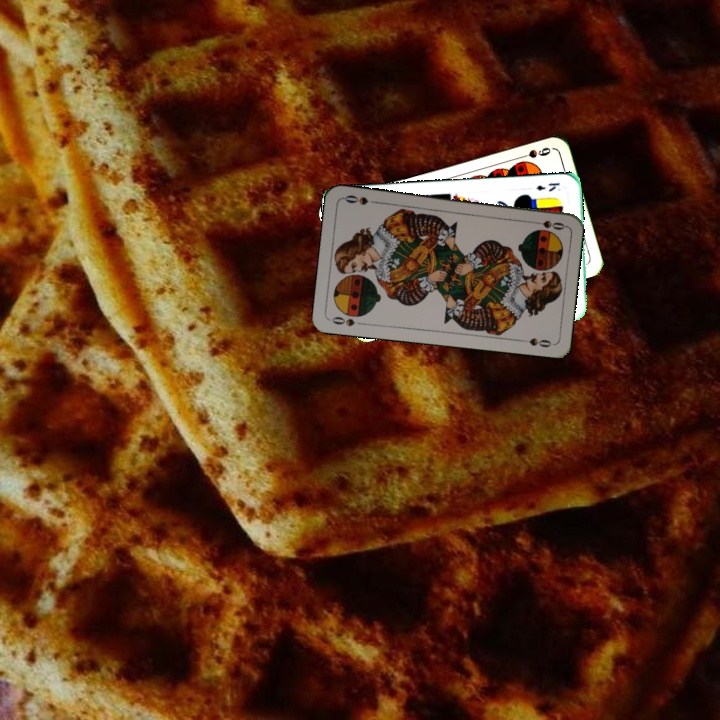EK: (532, 178, 562, 194)
S9: (514, 143, 553, 162)
SO: (527, 216, 567, 232), (328, 313, 367, 329)
